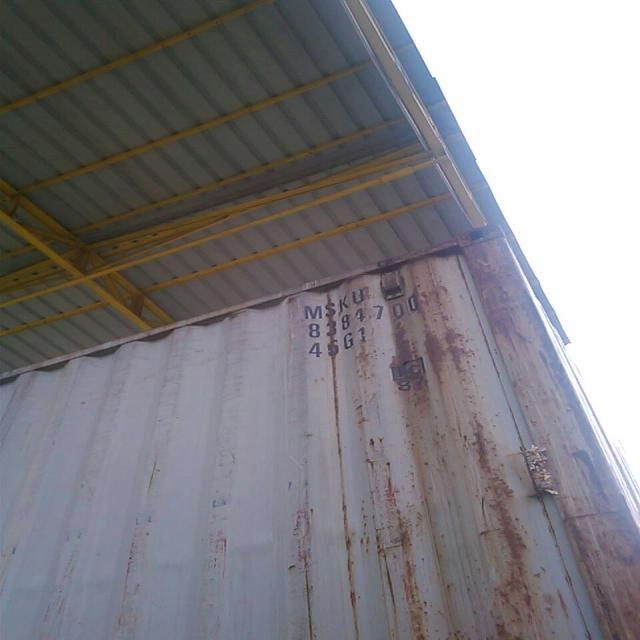rust: (360, 415, 640, 640), (383, 223, 545, 404)
